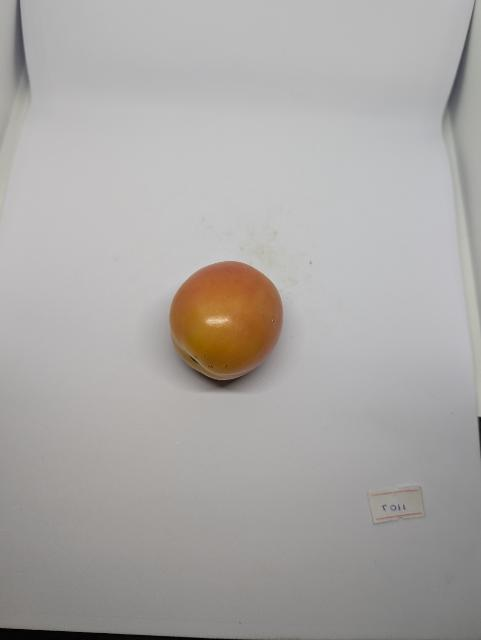turning: (166, 254, 292, 393)
